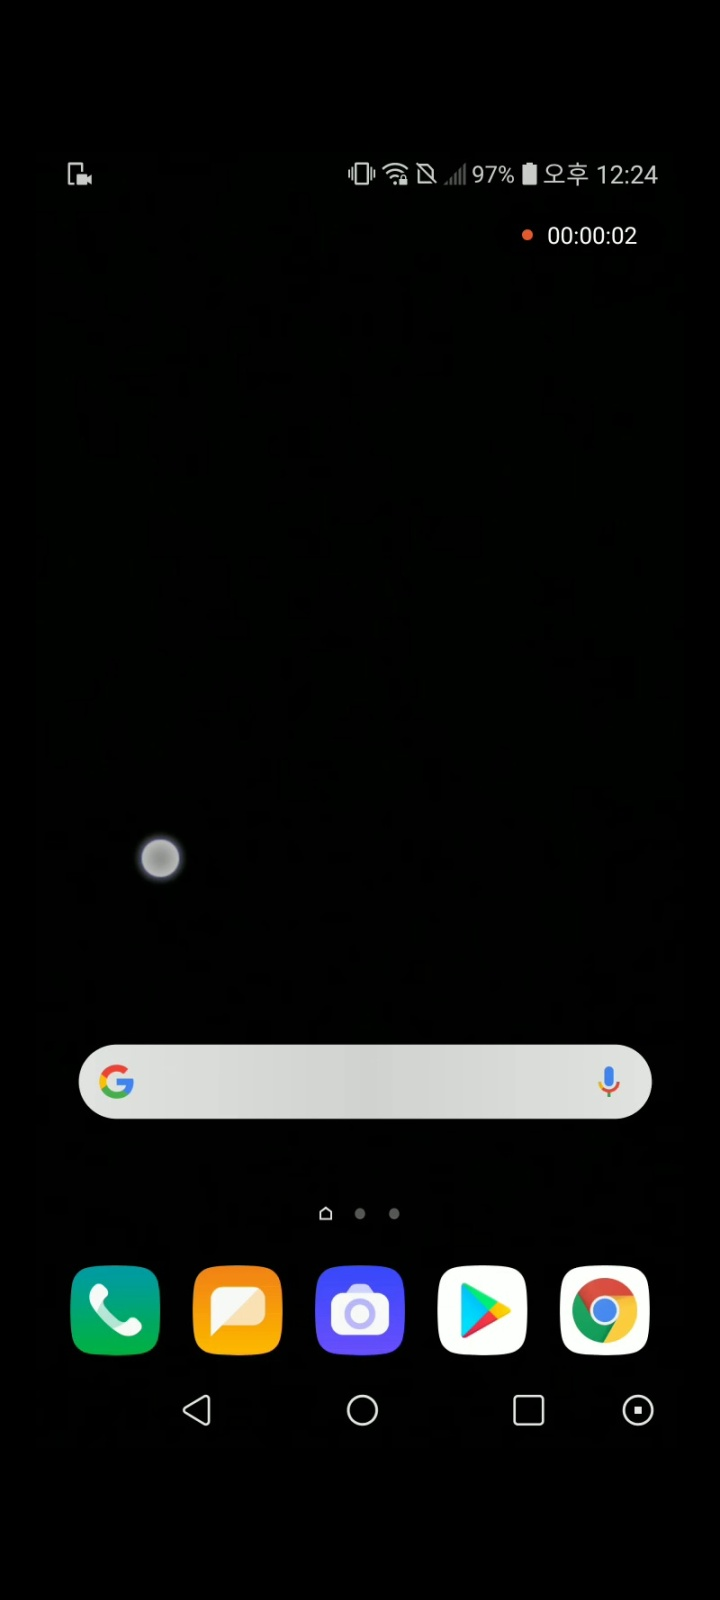Cursor: (138, 836, 183, 881)
